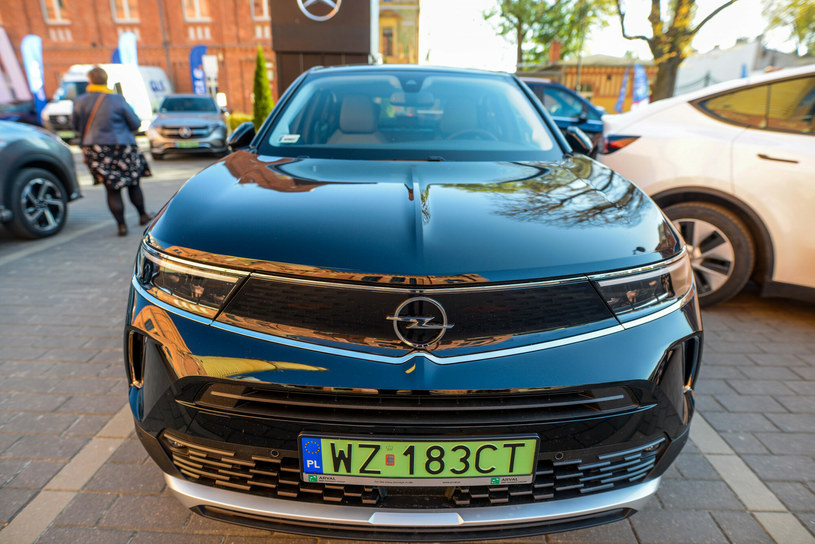number_plate: (299, 436, 538, 484)
